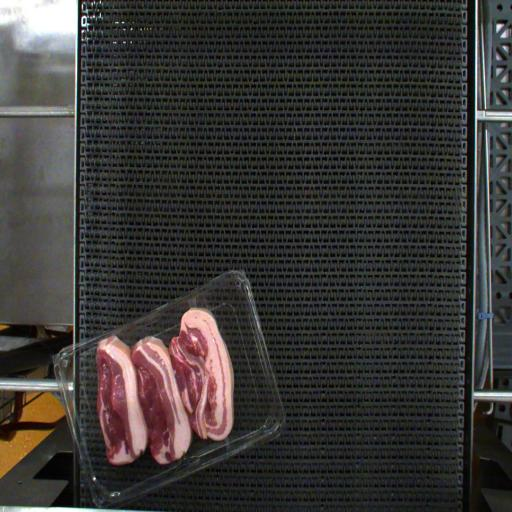packaging-error: (185, 296, 201, 311)
